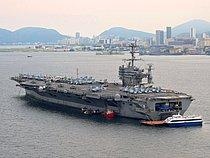MIL_Ship: (23, 48, 196, 121)
